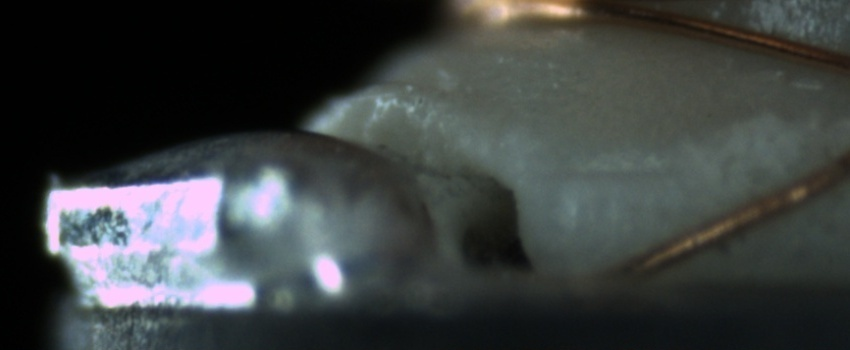DL: (547, 142, 681, 202)
